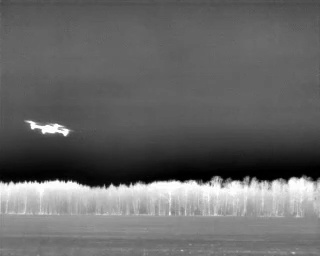DRONE: (21, 115, 78, 141)
